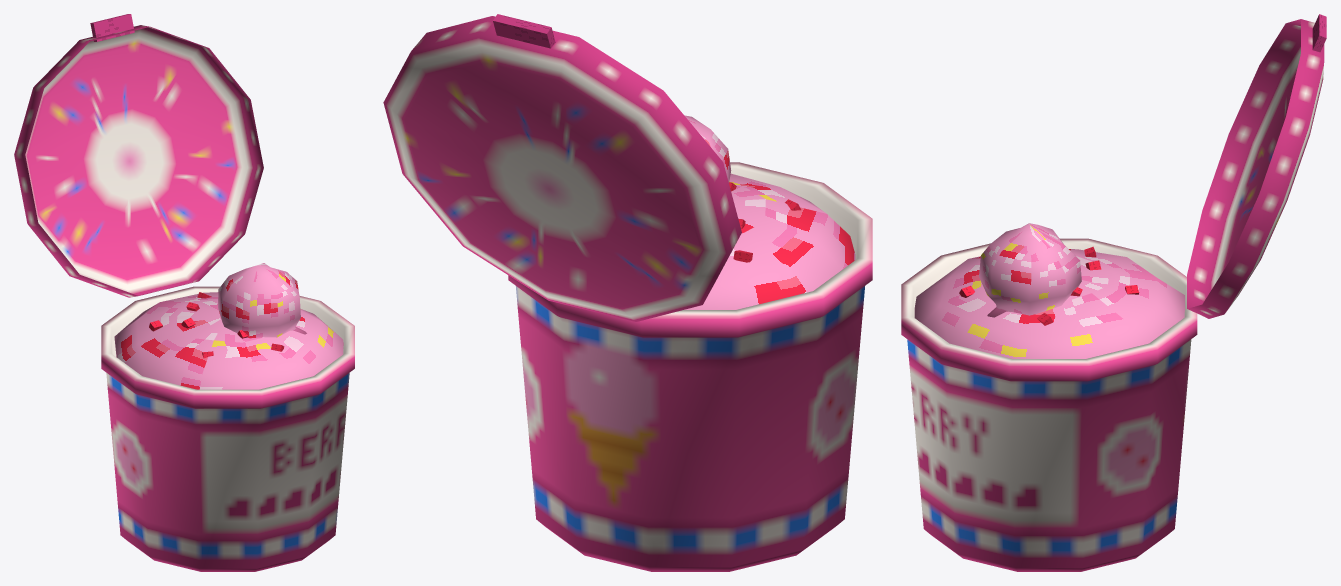
The model's file is Flavor Tub Strawberry.fbx.
3 views of the same model, side by side, from view 1: azimuth 30°, elevation 25°; view 2: azimuth 150°, elevation 25°; view 3: azimuth 270°, elevation 25° (orthographic). The views are drawn at different scales.
Parts seen in each view (by area): view 1: Flavor Tub Strawberry lid, Flavor Tub Strawberry tub, Flavor Tub Strawberry ice cream, Flavor Tub Strawberry swirl, Flavor Tub Strawberry lid tab; view 2: Flavor Tub Strawberry tub, Flavor Tub Strawberry lid, Flavor Tub Strawberry ice cream, Flavor Tub Strawberry lid tab, Flavor Tub Strawberry swirl; view 3: Flavor Tub Strawberry tub, Flavor Tub Strawberry lid, Flavor Tub Strawberry ice cream, Flavor Tub Strawberry swirl.
Boxes of the visible parts, x1=… form: Flavor Tub Strawberry lid: x1=14, y1=25, x2=263, y2=297; Flavor Tub Strawberry tub: x1=101, y1=286, x2=354, y2=571; Flavor Tub Strawberry ice cream: x1=114, y1=292, x2=343, y2=389; Flavor Tub Strawberry swirl: x1=218, y1=263, x2=306, y2=338; Flavor Tub Strawberry lid tab: x1=90, y1=14, x2=134, y2=41; Flavor Tub Strawberry tub: x1=508, y1=162, x2=872, y2=571; Flavor Tub Strawberry lid: x1=383, y1=16, x2=741, y2=321; Flavor Tub Strawberry ice cream: x1=684, y1=173, x2=855, y2=309; Flavor Tub Strawberry lid tab: x1=493, y1=14, x2=555, y2=48; Flavor Tub Strawberry swirl: x1=684, y1=115, x2=731, y2=182; Flavor Tub Strawberry tub: x1=901, y1=238, x2=1197, y2=571; Flavor Tub Strawberry lid: x1=1187, y1=19, x2=1324, y2=318; Flavor Tub Strawberry ice cream: x1=914, y1=249, x2=1184, y2=358; Flavor Tub Strawberry swirl: x1=979, y1=223, x2=1081, y2=317.
Bounding box in the file's own units: 0.3033 × 0.5406 × 0.4191.
Materials: 5 (5 with a texture image).
